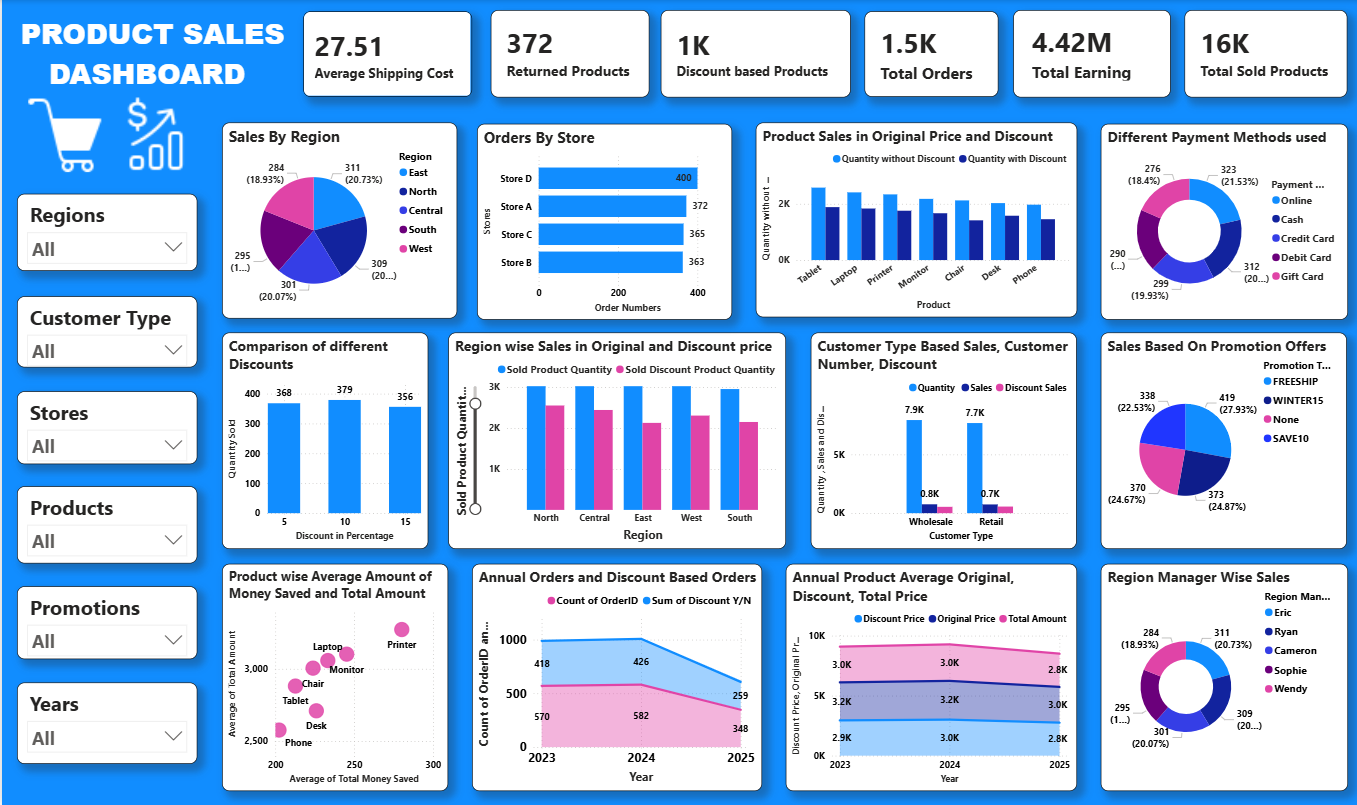

Layout of this report page (visuals, bound fields, positions):
{"tool":"powerbi","page":{"name":"Page 1","canvas":[1800,1069],"ordinal":0},"visuals":[{"type":"clusteredColumnChart","title":"Region wise Sales in Original and Discount price","fields":{"Category":["Sheet1.Region"],"Y":["Sum(Sheet1.Quantity)","Sum(Sheet1 (3).Discounted Quantity)"]},"box":[591.9,441,447.6,286.8],"z":0},{"type":"cardVisual","fields":{"Data":["Sum(Sheet1.Quantity)"]},"box":[1568.8,13.5,216.1,115.8],"z":1000},{"type":"clusteredColumnChart","title":"Product Sales in Original Price and Discount ","fields":{"Category":["Sheet1 (3).Product"],"Y":["Sum(Sheet1 (3).Quantity)","Sum(Sheet1 (3).Discounted Quantity)"]},"box":[999.7,162.5,426.1,258.6],"z":2000},{"type":"pieChart","title":"Sales Based On Promotion Offers","fields":{"Category":["Sheet1.Promotion"],"Y":["CountNonNull(Sheet1.Promotion)"]},"box":[1457.3,441,326.6,286.8],"z":3000},{"type":"clusteredBarChart","title":"Orders By Store","fields":{"Y":["CountNonNull(Sheet1.StoreLocation)"],"Category":["Sheet1.StoreLocation"]},"box":[630,164.1,338.2,260.3],"z":4000},{"type":"clusteredColumnChart","title":"Comparison of different Discounts","fields":{"Y":["CountNonNull(Sheet1.Discount in percentage)"],"Category":["Sheet1.Discount in percentage"]},"box":[291.8,441,273.6,286.8],"z":5000},{"type":"donutChart","title":"Different Payment Methods used ","fields":{"Category":["Sheet1.PaymentMethod"],"Y":["CountNonNull(Sheet1.PaymentMethod)"]},"box":[1457.3,164.1,328.3,260.3],"z":6000},{"type":"cardVisual","fields":{"Data":["Sum(Sheet1.Total Amount)"]},"box":[1341.1,13.5,208.4,115.8],"z":7000},{"type":"cardVisual","fields":{"Data":["Count(Sheet1.OrderID)"]},"box":[1144.3,15.4,177.5,113.9],"z":8000},{"type":"cardVisual","fields":{"Data":["Sum(Sheet1 (2).Discount Y/N)"]},"box":[873.7,13.3,252,116.1],"z":9000},{"type":"donutChart","title":"Region Manager Wise Sales","fields":{"Category":["Sheet1.RegionManager"],"Y":["CountNonNull(Sheet1.RegionManager)"]},"box":[1457.3,747.7,328.3,301.7],"z":10000},{"type":"clusteredColumnChart","title":"Customer Type Based Sales, Customer Number, Discount ","fields":{"Category":["Sheet1.CustomerType"],"Y":["Sum(Sheet1.Quantity)","CountNonNull(Sheet1.CustomerType)","Sum(Sheet1 (3).Discount Y/N)"]},"box":[1072.7,441,353.1,286.8],"z":11000},{"type":"slicer","fields":{"Values":["Sheet1.Region"]},"box":[19.3,256.6,239.3,102.3],"z":12000},{"type":"slicer","fields":{"Values":["Sheet1.StoreLocation"]},"box":[19.3,519.1,239.3,96.5],"z":13000},{"type":"slicer","fields":{"Values":["Sheet1.Product","Sheet1.CustomerType"]},"box":[19.3,644.5,239.3,102.3],"z":14000},{"type":"slicer","fields":{"Values":["Sheet1.CustomerType"]},"box":[19.3,393.7,239.3,94.6],"z":15000},{"type":"cardVisual","fields":{"Data":["Avg(Sheet1.ShippingCost)"]},"box":[399.4,15.4,223.8,113.9],"z":16000},{"type":"stackedAreaChart","title":"Annual Orders and Discount Based Orders","fields":{"Category":["Sheet1.DeliveryDate.Variation.Date Hierarchy.Year","Sheet1.DeliveryDate.Variation.Date Hierarchy.Quarter","Sheet1.DeliveryDate.Variation.Date Hierarchy.Month","Sheet1.DeliveryDate.Variation.Date Hierarchy.Day"],"Y":["CountNonNull(Sheet1.OrderID)","Sum(Sheet1 (3).Discount Y/N)"]},"box":[623.4,747.7,384.6,301.7],"z":17000},{"type":"stackedAreaChart","title":"Annual Product Average Original, Discount, Total Price","fields":{"Category":["Sheet1 (3).DeliveryDate.Variation.Date Hierarchy.Year","Sheet1 (3).DeliveryDate.Variation.Date Hierarchy.Quarter","Sheet1 (3).DeliveryDate.Variation.Date Hierarchy.Month","Sheet1 (3).DeliveryDate.Variation.Date Hierarchy.Day"],"Y":["Avg(Sheet1.TotalPrice)","Avg(Sheet1 (3).original price)","Avg(Sheet1 (3).Total Amount)"]},"box":[1039.5,747.7,386.3,301.7],"z":18000},{"type":"scatterChart","title":"Product wise Average Amount of Money Saved and Total Amount","fields":{"Category":["Sheet1.Product"],"X":["Avg(Sheet1.Total Money Saved)"],"Y":["Avg(Sheet1.Total Amount)"]},"box":[291.8,747.7,300.1,301.7],"z":19000},{"type":"pieChart","title":"Sales By Region","fields":{"Category":["Sheet1.Region"],"Y":["CountNonNull(Sheet1.Region)"]},"box":[291.8,162.5,311.7,260.3],"z":20000},{"type":"slicer","fields":{"Values":["Sheet1.Promotion"]},"box":[19.3,777.7,239.3,96.5],"z":21000},{"type":"textbox","box":[19.3,13.5,366.6,137],"z":22000},{"type":"image","box":[34.8,99.5,101.1,155.8],"z":23000},{"type":"image","box":[135.9,129.3,134.3,102.8],"z":24000},{"type":"cardVisual","fields":{"Data":["Sum(Sheet1 (3).Returned)"]},"box":[648.4,13.5,210.3,115.8],"z":25000},{"type":"slicer","fields":{"Values":["Sheet1 (4).Years"]},"box":[19.3,905,239.3,108.1],"z":26000}]}

Visuals, with their boxes in screenshot pixels (x1, y1, x2, y2), scaled from the page's 1800x1069 canvas onto the 1357x805 screenshot:
"Region wise Sales in Original and Discount price" clusteredColumnChart: bbox=(446, 332, 784, 548)
cardVisual - Sum(Sheet1.Quantity): bbox=(1183, 10, 1346, 97)
"Product Sales in Original Price and Discount " clusteredColumnChart: bbox=(754, 122, 1075, 317)
"Sales Based On Promotion Offers" pieChart: bbox=(1099, 332, 1345, 548)
"Orders By Store" clusteredBarChart: bbox=(475, 124, 730, 320)
"Comparison of different Discounts" clusteredColumnChart: bbox=(220, 332, 426, 548)
"Different Payment Methods used " donutChart: bbox=(1099, 124, 1346, 320)
cardVisual - Sum(Sheet1.Total Amount): bbox=(1011, 10, 1168, 97)
cardVisual - Count(Sheet1.OrderID): bbox=(863, 12, 996, 97)
cardVisual - Sum(Sheet1 (2).Discount Y/N): bbox=(659, 10, 849, 97)
"Region Manager Wise Sales" donutChart: bbox=(1099, 563, 1346, 790)
"Customer Type Based Sales, Customer Number, Discount " clusteredColumnChart: bbox=(809, 332, 1075, 548)
slicer - Sheet1.Region: bbox=(15, 193, 195, 270)
slicer - Sheet1.StoreLocation: bbox=(15, 391, 195, 464)
slicer - Sheet1.Product x Sheet1.CustomerType: bbox=(15, 485, 195, 562)
slicer - Sheet1.CustomerType: bbox=(15, 296, 195, 368)
cardVisual - Avg(Sheet1.ShippingCost): bbox=(301, 12, 470, 97)
"Annual Orders and Discount Based Orders" stackedAreaChart: bbox=(470, 563, 760, 790)
"Annual Product Average Original, Discount, Total Price" stackedAreaChart: bbox=(784, 563, 1075, 790)
"Product wise Average Amount of Money Saved and Total Amount" scatterChart: bbox=(220, 563, 446, 790)
"Sales By Region" pieChart: bbox=(220, 122, 455, 318)
slicer - Sheet1.Promotion: bbox=(15, 586, 195, 658)
textbox: bbox=(15, 10, 291, 113)
image: bbox=(26, 75, 102, 192)
image: bbox=(102, 97, 204, 175)
cardVisual - Sum(Sheet1 (3).Returned): bbox=(489, 10, 647, 97)
slicer - Sheet1 (4).Years: bbox=(15, 682, 195, 763)
